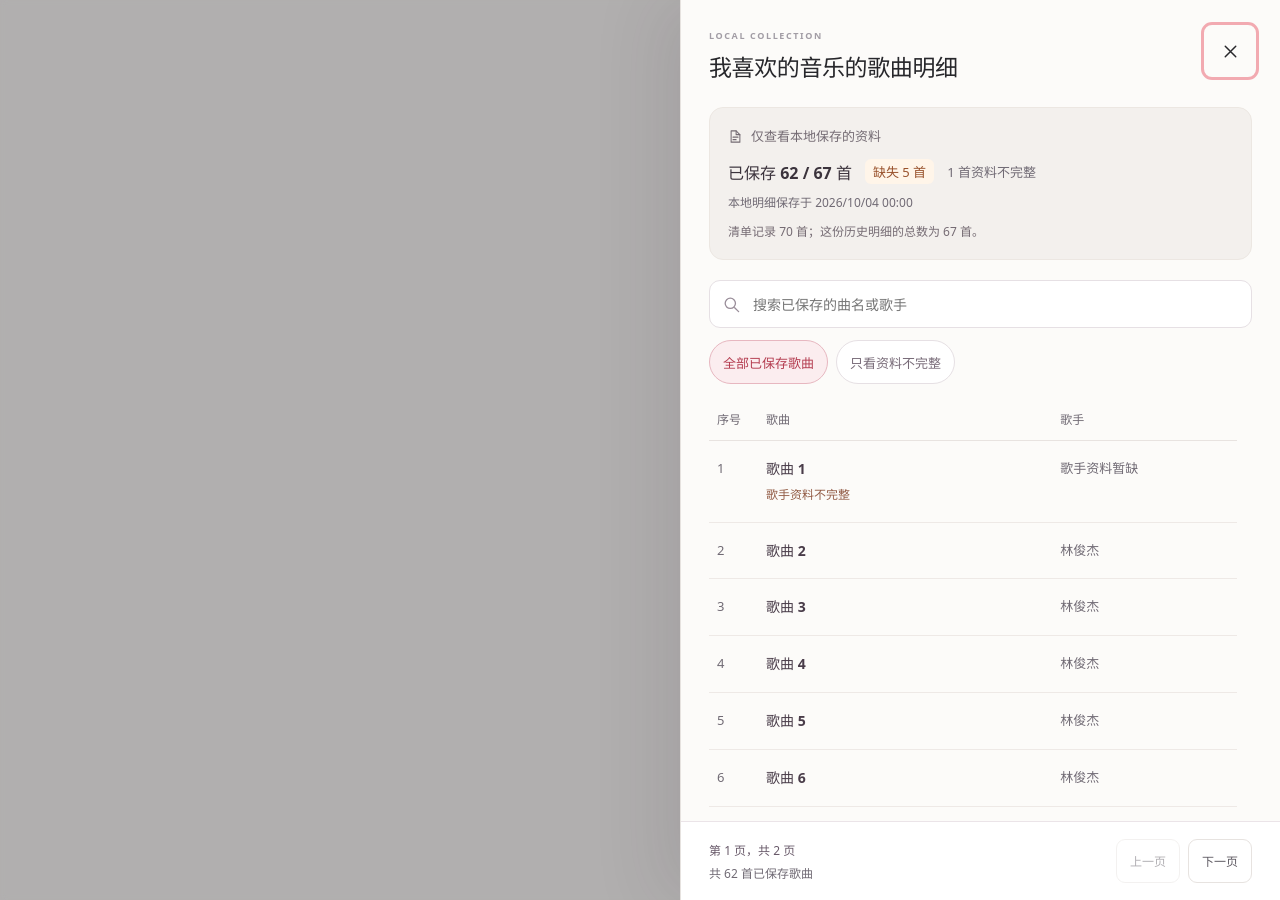
it: saved playlist details drawer › ignores a late previous search response even when the transport ignores abort
Type "first" into the field named "搜索曲名或歌手" at (995, 304), box [751, 294, 1239, 315]
Wait 200 ms
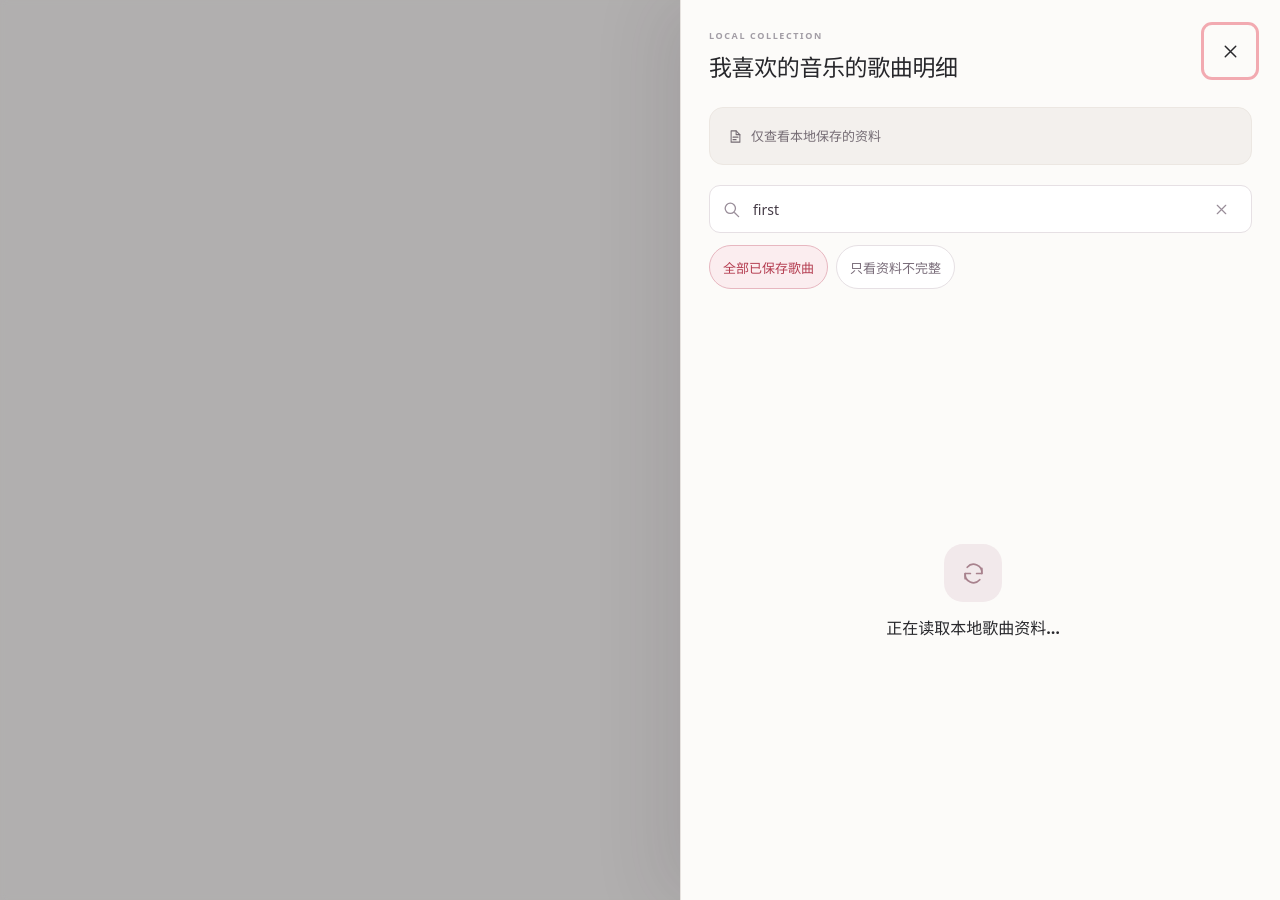
Replace the text in the field named "搜索曲名或歌手" with "summer" at (972, 209), box [751, 199, 1193, 220]
Wait 200 ms
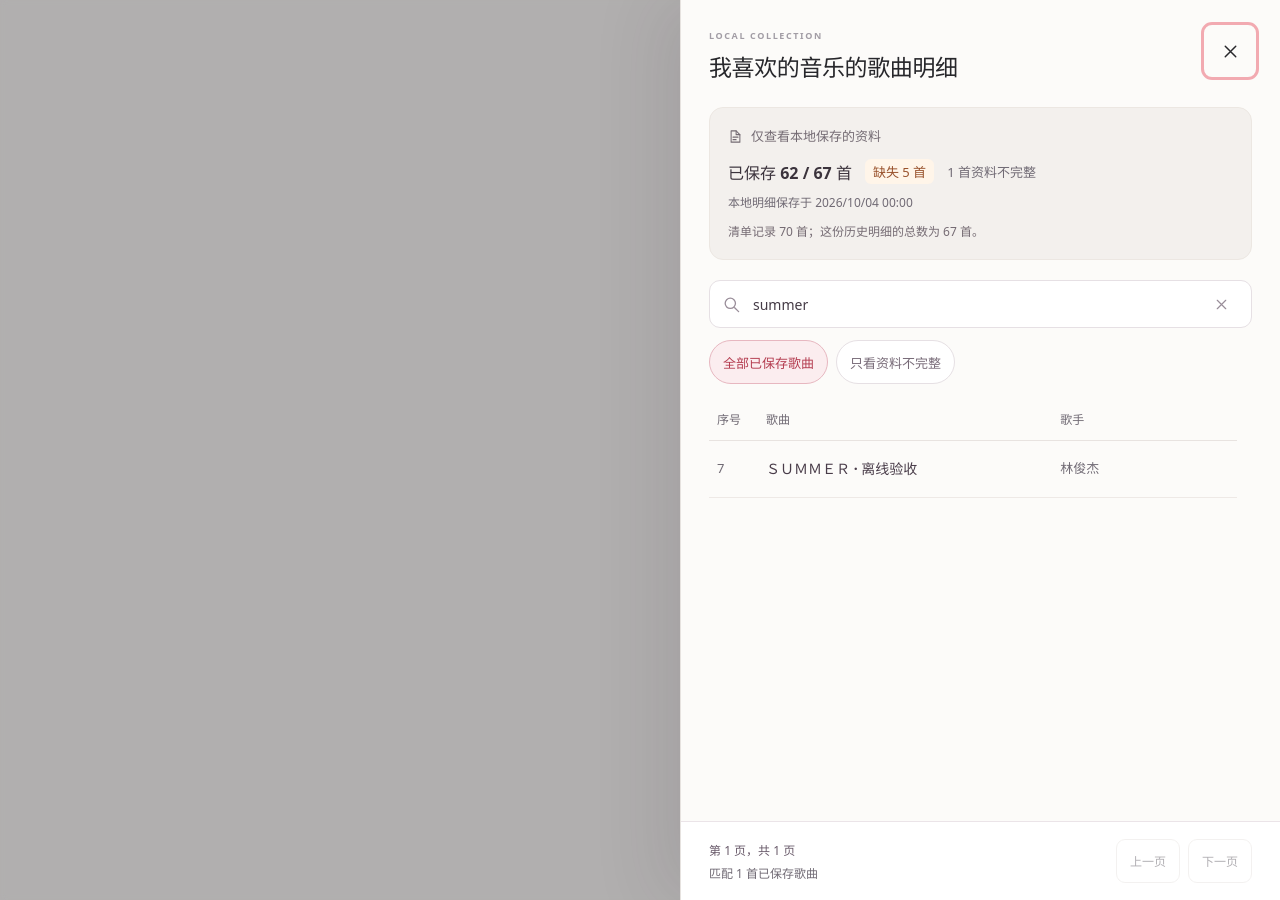
Now the text "ＳＵＭＭＥＲ · 离线验收" is shown, box [766, 459, 917, 478]
